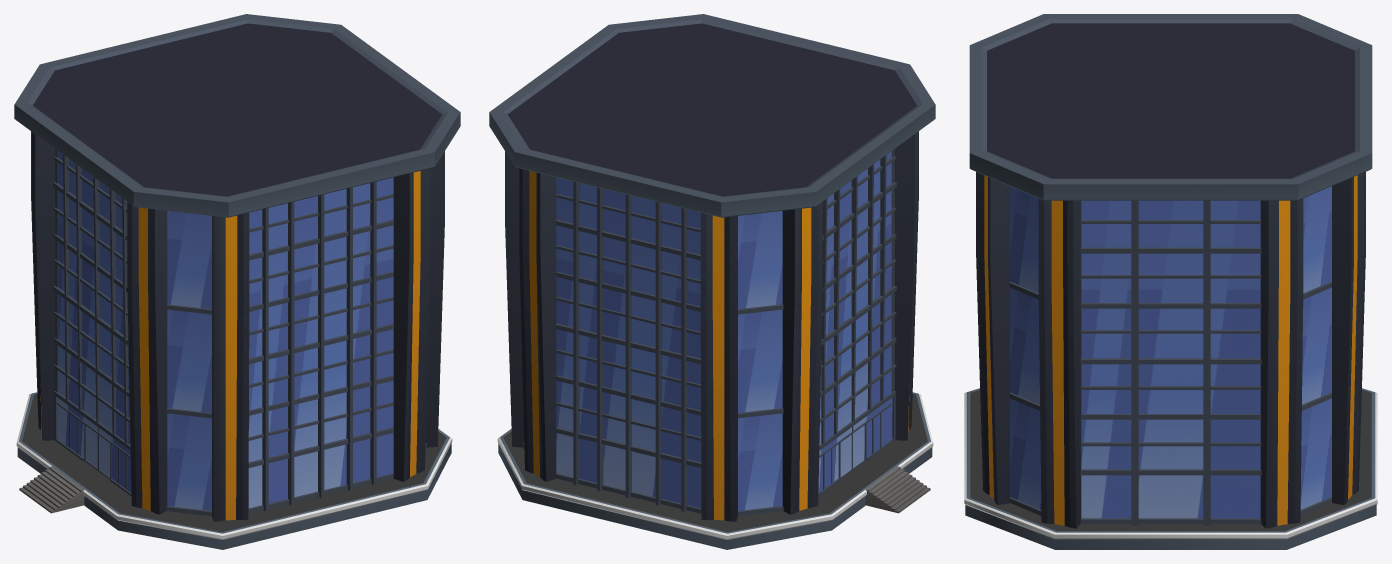
Rendered from Building_7_3_D.fbx.
3 renders of one model, left to right at view 1: azimuth 30°, elevation 25°; view 2: azimuth 150°, elevation 25°; view 3: azimuth 270°, elevation 25°, orthographic. The views are drawn at different scales.
Parts seen in each view (by area): view 1: Building_7_3_D; view 2: Building_7_3_D; view 3: Building_7_3_D.
Part boxes in pixels (bbox=[...]): Building_7_3_D: bbox=[14, 14, 460, 549]; Building_7_3_D: bbox=[489, 14, 935, 549]; Building_7_3_D: bbox=[964, 14, 1377, 549].
Bounding box in the file's own units: 2520 × 2267 × 2311.
